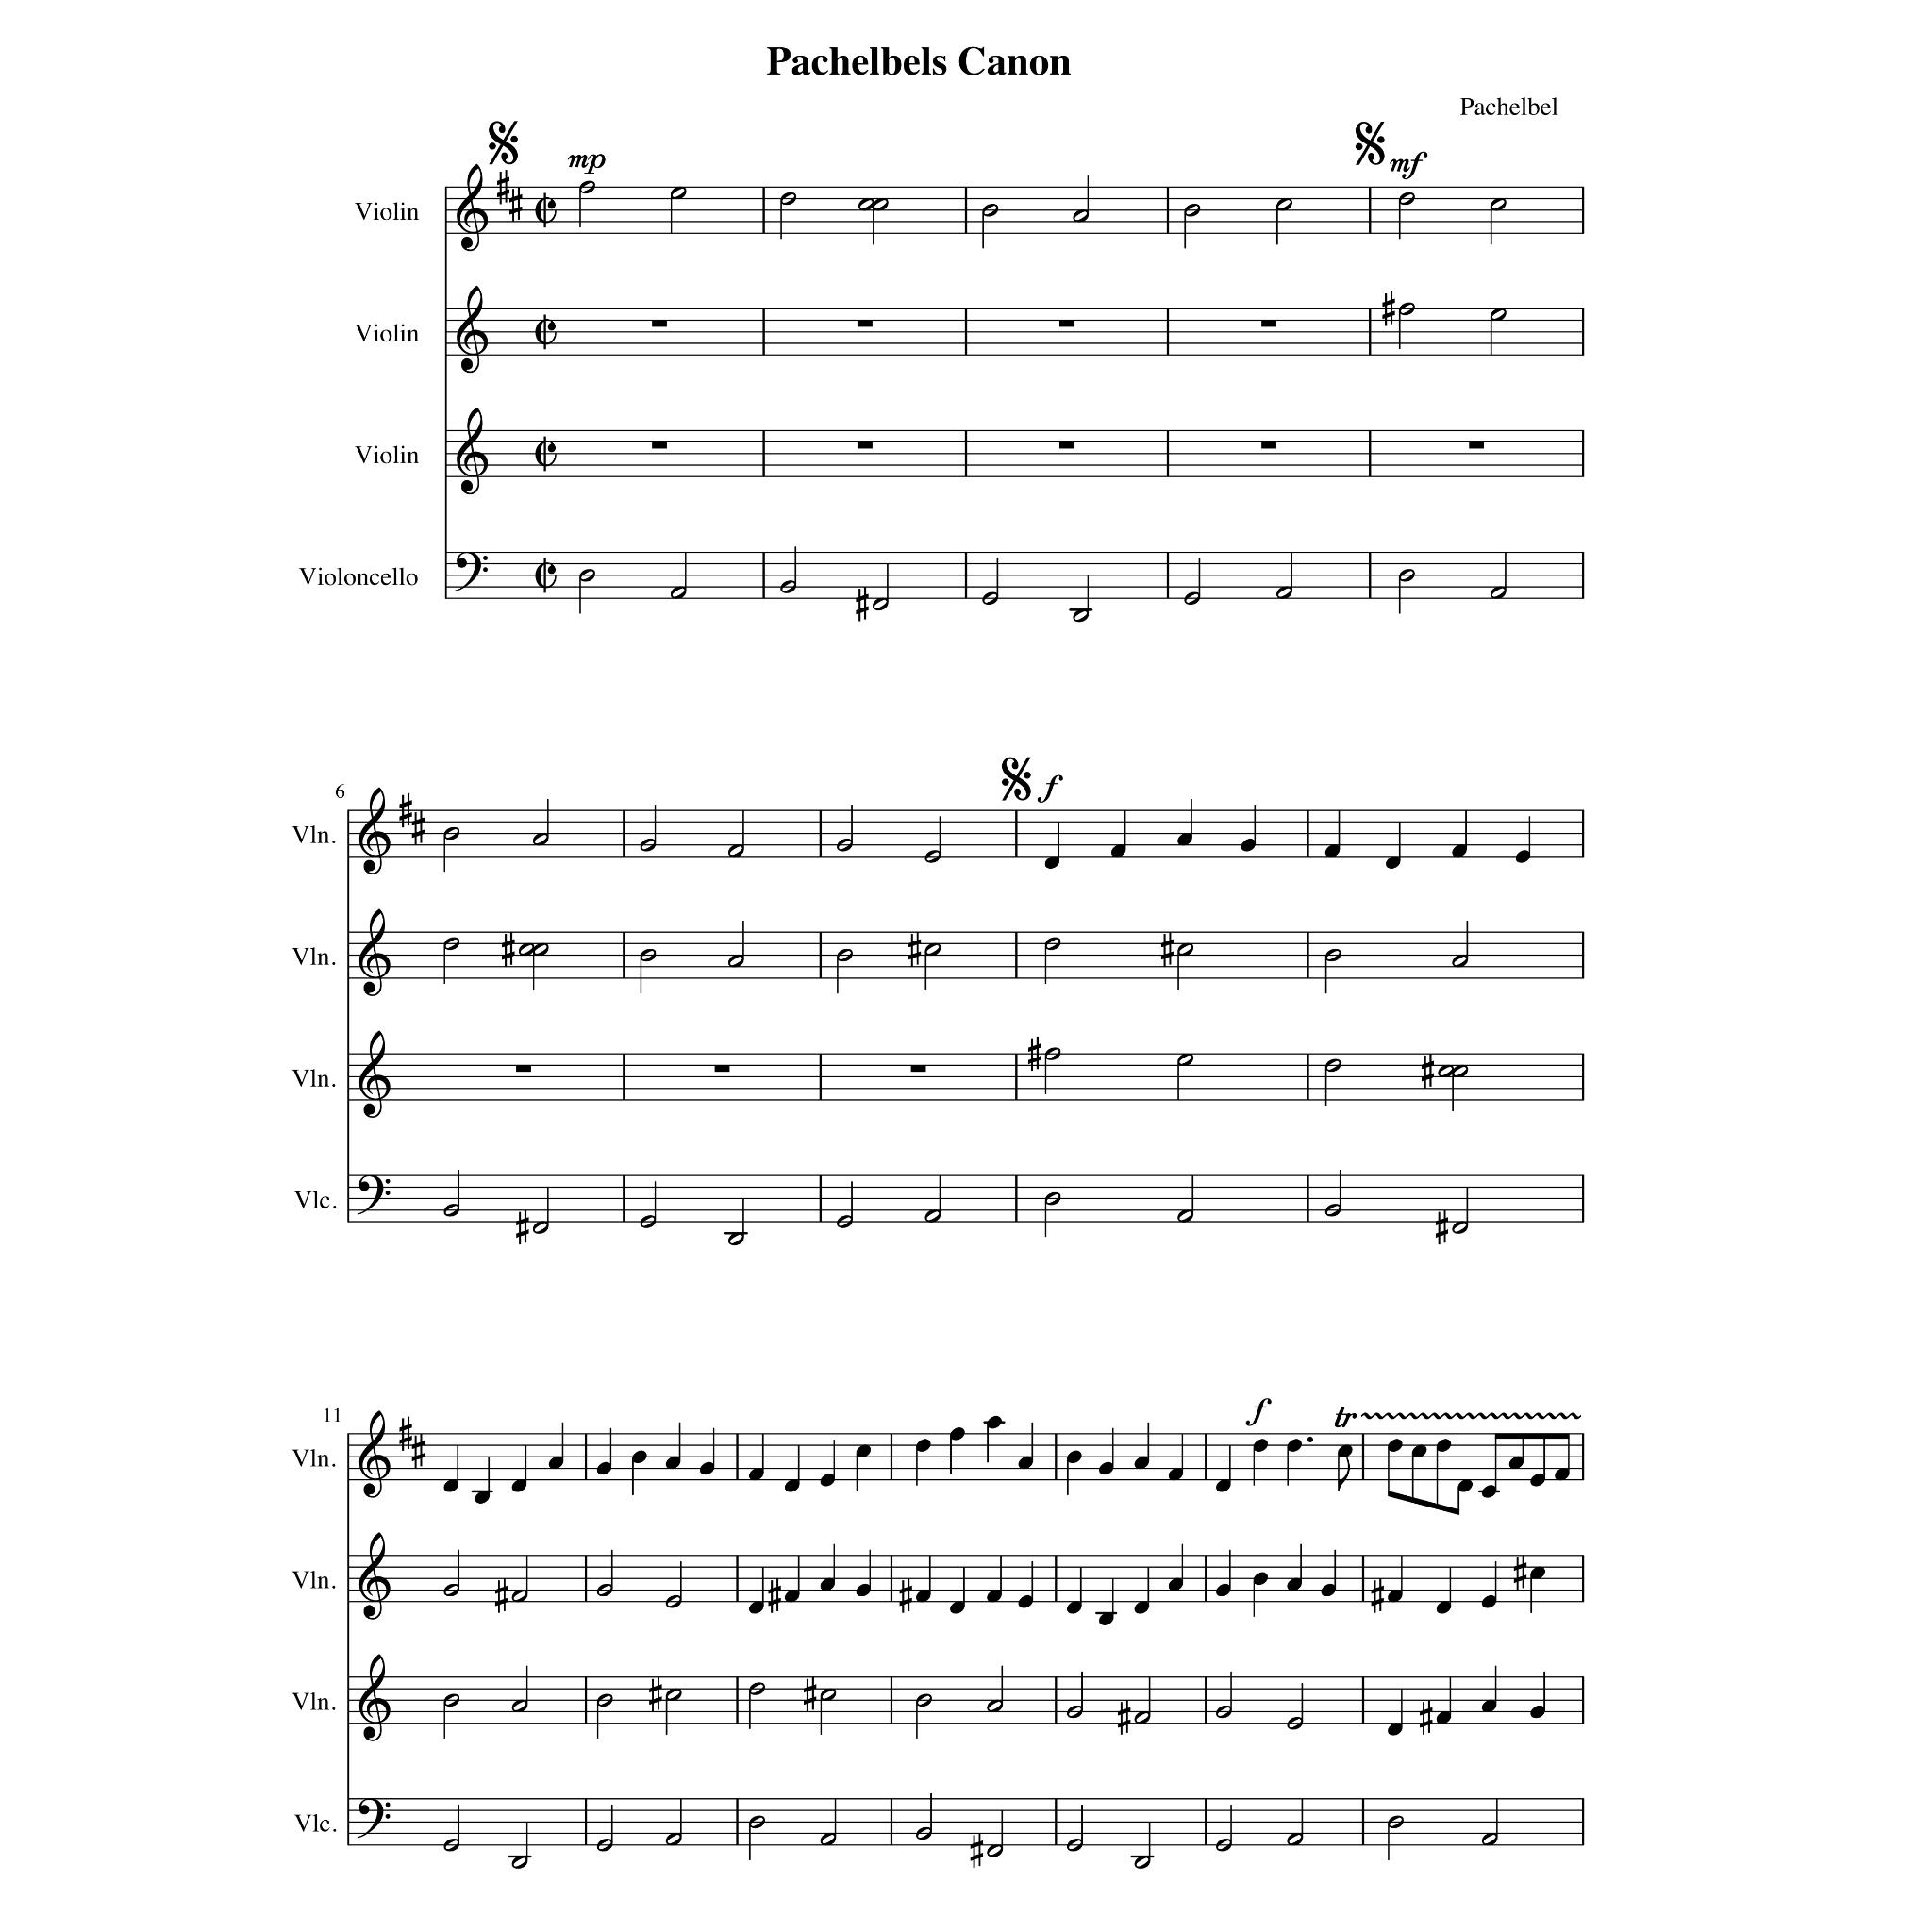fClef: (453, 552, 488, 593), (357, 1175, 391, 1215), (357, 1799, 391, 1838)
flag8thDown: (1338, 1458, 1350, 1491)
gClef: (359, 908, 391, 998), (456, 163, 488, 251), (456, 407, 488, 495), (456, 285, 488, 373), (359, 787, 391, 876), (359, 1030, 391, 1118), (359, 1654, 391, 1743), (359, 1410, 391, 1499), (359, 1532, 391, 1621)
noteheadBlack: (1214, 1479, 1231, 1493), (1214, 1583, 1231, 1598), (630, 1451, 648, 1465), (1177, 833, 1192, 847), (1111, 844, 1127, 858), (1323, 844, 1339, 858), (1514, 849, 1530, 863), (1451, 844, 1467, 858), (1286, 1438, 1302, 1453), (1017, 1594, 1033, 1608), (1253, 1438, 1269, 1453), (1065, 1451, 1081, 1465), (1097, 1461, 1113, 1476), (1097, 1612, 1113, 1626), (1530, 1474, 1546, 1488), (1530, 1566, 1546, 1580), (1481, 1484, 1497, 1499), (1481, 1594, 1497, 1608), (1481, 1698, 1497, 1713), (1387, 1438, 1403, 1453), (1387, 1589, 1403, 1603), (1320, 1583, 1336, 1598), (1338, 1444, 1353, 1458), (1435, 1711, 1451, 1725), (1410, 1444, 1426, 1458), (1435, 1438, 1451, 1453), (596, 1461, 612, 1476), (699, 1461, 715, 1476), (442, 1479, 458, 1493), (474, 1490, 490, 1504), (511, 1479, 527, 1493), (915, 1438, 931, 1453), (855, 1444, 870, 1458), (855, 1583, 870, 1598), (915, 1589, 931, 1603), (784, 1479, 800, 1493), (784, 1589, 800, 1603), (819, 1474, 835, 1488), (1553, 1468, 1571, 1481), (1458, 1479, 1472, 1493), (987, 1589, 1001, 1603), (987, 1415, 1001, 1430), (1240, 839, 1256, 851), (1385, 856, 1401, 869), (1044, 856, 1060, 869), (1253, 1573, 1269, 1585), (1286, 1578, 1302, 1591), (1065, 1601, 1081, 1614), (1168, 1468, 1184, 1481), (1168, 1578, 1184, 1591), (1134, 1456, 1150, 1468), (1134, 1601, 1150, 1614), (1507, 1456, 1523, 1468), (1530, 1706, 1546, 1718), (1387, 1723, 1403, 1736), (1435, 1601, 1451, 1614), (1017, 1456, 1033, 1468), (748, 1468, 764, 1481), (748, 1601, 764, 1614), (665, 1456, 681, 1468), (548, 1456, 564, 1468), (948, 1601, 964, 1614), (948, 1428, 964, 1440), (819, 1578, 835, 1591)
noteheadHalf: (1398, 193, 1415, 207), (1398, 303, 1415, 317), (1184, 203, 1201, 218), (1490, 308, 1507, 322), (778, 193, 796, 207), (1177, 943, 1194, 957), (1044, 1047, 1062, 1062), (1044, 936, 1062, 950), (442, 1203, 460, 1217), (442, 936, 460, 950), (727, 1231, 745, 1246), (727, 844, 745, 858), (835, 948, 853, 962), (1286, 1716, 1304, 1730), (1134, 1711, 1152, 1725), (596, 1583, 614, 1598), (596, 1693, 614, 1707), (596, 1838, 614, 1852), (665, 1688, 683, 1702), (442, 1583, 460, 1598), (442, 1693, 460, 1707), (442, 1838, 460, 1852), (510, 1698, 527, 1713), (510, 1589, 527, 1603), (915, 1693, 932, 1707), (985, 1698, 1003, 1713), (985, 1844, 1003, 1858), (819, 1688, 837, 1702), (579, 180, 594, 195), (1072, 609, 1088, 623), (982, 203, 998, 218), (872, 598, 888, 612), (1325, 1203, 1341, 1217), (1325, 1058, 1341, 1072), (1325, 948, 1341, 962), (533, 943, 548, 957), (518, 943, 534, 957), (533, 833, 548, 847), (640, 948, 656, 962), (925, 943, 941, 957), (925, 849, 941, 863), (1215, 1838, 1231, 1852), (1067, 1838, 1083, 1852), (1398, 570, 1415, 582), (1184, 593, 1201, 605), (1490, 587, 1507, 600), (1490, 198, 1507, 211), (778, 580, 796, 593), (1177, 1210, 1194, 1223), (1177, 1054, 1194, 1067), (1044, 1192, 1062, 1205), (1451, 1221, 1468, 1233), (1451, 1065, 1468, 1077), (1437, 1065, 1454, 1077), (1451, 955, 1468, 968), (442, 828, 460, 840), (727, 955, 745, 968), (835, 1215, 853, 1228), (835, 839, 853, 851), (1286, 1833, 1304, 1845), (1134, 1856, 1152, 1868), (1481, 1833, 1499, 1845), (665, 1833, 683, 1845), (665, 1596, 683, 1608), (510, 1856, 527, 1868), (915, 1828, 932, 1840), (819, 1833, 837, 1845), (1276, 587, 1292, 600), (1276, 198, 1292, 211), (671, 587, 686, 600), (671, 188, 686, 200), (579, 570, 594, 582), (982, 593, 998, 605), (1072, 211, 1088, 223), (858, 198, 874, 211), (872, 198, 888, 211), (533, 1221, 548, 1233), (640, 1215, 656, 1228), (640, 839, 656, 851), (925, 1210, 941, 1223), (1215, 1706, 1231, 1718), (1067, 1706, 1083, 1718), (1387, 1815, 1403, 1828), (748, 1683, 764, 1695), (748, 1815, 764, 1828)
restWhole: (1261, 320, 1277, 329), (856, 320, 872, 329), (1060, 320, 1076, 329), (651, 320, 667, 329), (856, 442, 872, 449), (1060, 442, 1076, 449), (1261, 442, 1277, 449), (1468, 442, 1484, 449), (651, 442, 667, 449), (713, 1065, 729, 1072), (909, 1065, 925, 1072), (515, 1065, 531, 1072)
